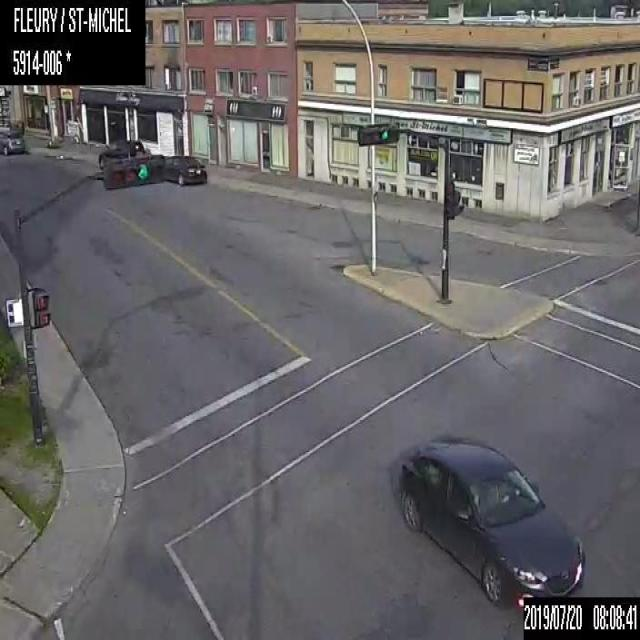vehicle: (396, 436, 585, 611), (158, 154, 206, 185), (98, 139, 146, 170), (0, 123, 25, 154)
